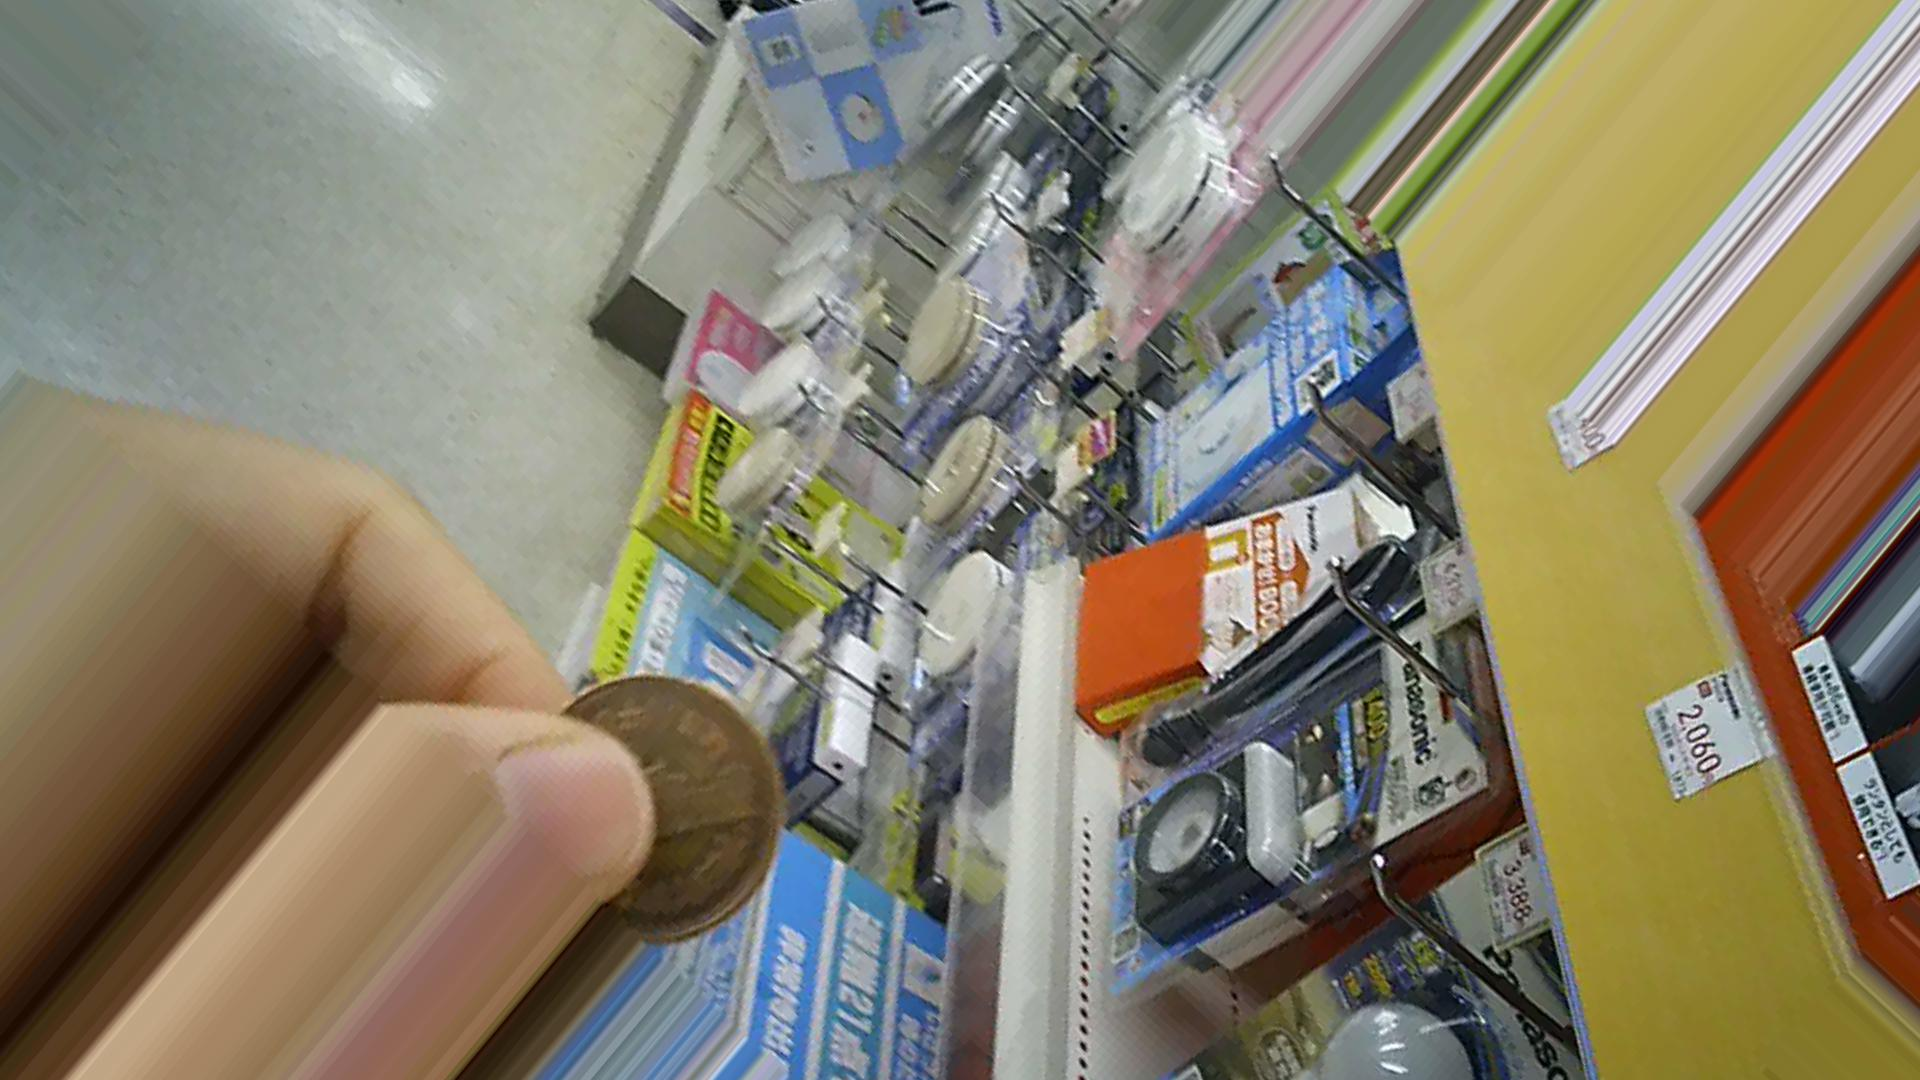10 Yen: (520, 659, 800, 967)
